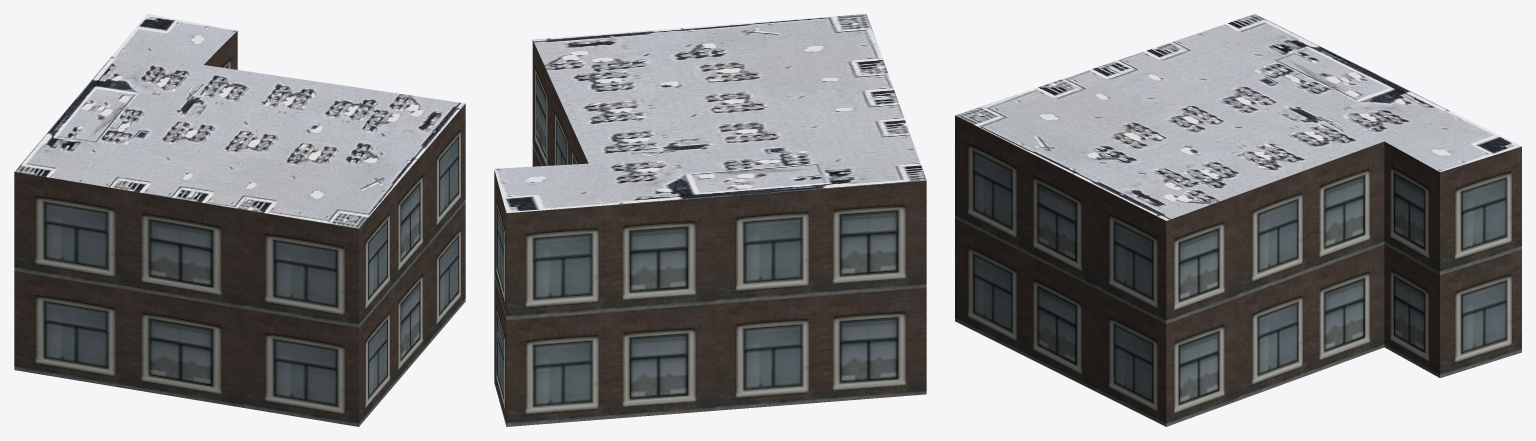
The model's file is ResTex__16.fbx.
3 renders of one model, left to right at view 1: azimuth 30°, elevation 25°; view 2: azimuth 150°, elevation 25°; view 3: azimuth 270°, elevation 25°, orthographic. The views are drawn at different scales.
Parts seen in each view (by area): view 1: CityEngineMaterial_16_m, CityEngineMaterial_15_m; view 2: CityEngineMaterial_16_m, CityEngineMaterial_15_m; view 3: CityEngineMaterial_16_m, CityEngineMaterial_15_m.
Boxes of the visible parts, x1=… form: CityEngineMaterial_16_m: x1=14, y1=31, x2=465, y2=426; CityEngineMaterial_15_m: x1=14, y1=14, x2=465, y2=228; CityEngineMaterial_16_m: x1=494, y1=40, x2=926, y2=426; CityEngineMaterial_15_m: x1=494, y1=14, x2=926, y2=213; CityEngineMaterial_16_m: x1=955, y1=115, x2=1521, y2=426; CityEngineMaterial_15_m: x1=955, y1=14, x2=1521, y2=220.
Bounding box in the file's own units: 12.93 × 6 × 14.97.
2 materials, 2 textured.
